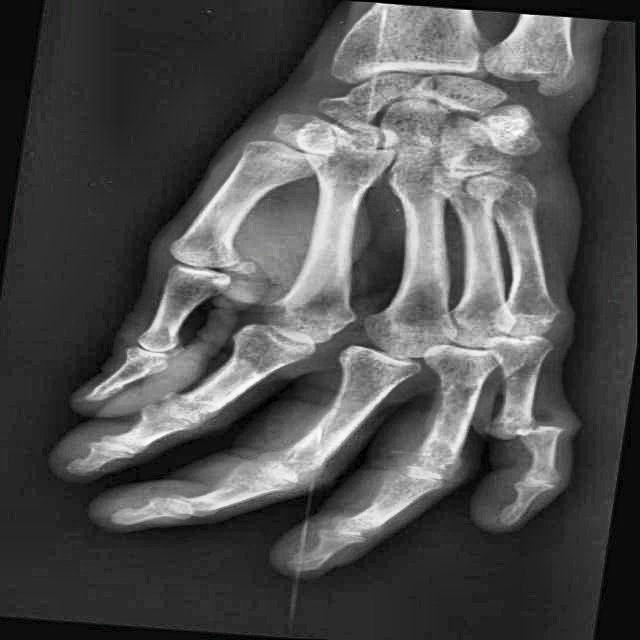Transverse: (487, 408, 592, 464)
